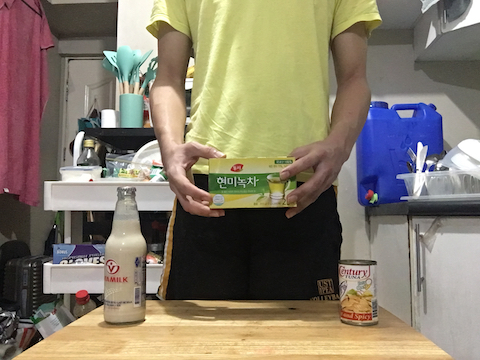bottle: (100, 184, 152, 326)
box: (205, 153, 304, 212)
can: (338, 256, 381, 327)
grab: (279, 137, 337, 225), (175, 140, 235, 225)
